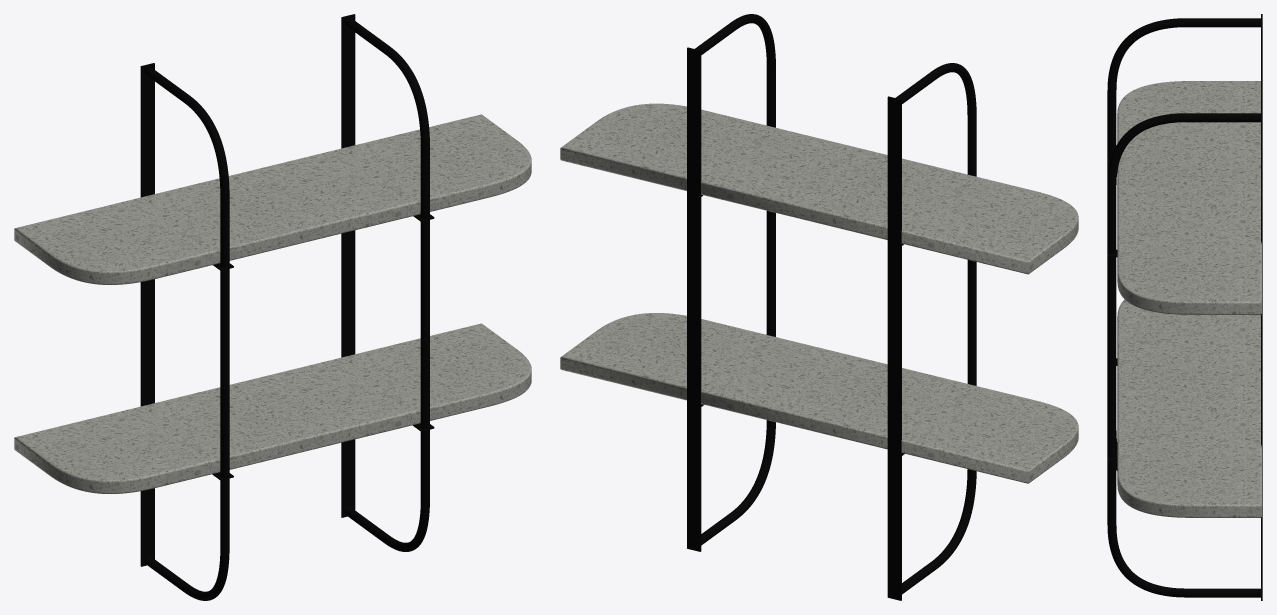
Rendered from Estanteria.glb.
3 views of the same model, side by side, from view 1: azimuth 30°, elevation 25°; view 2: azimuth 150°, elevation 25°; view 3: azimuth 270°, elevation 25° (orthographic). The views are drawn at different scales.
Parts seen in each view (by area): view 1: Terrazo - estanteria, Hierro - estanteria; view 2: Terrazo - estanteria, Hierro - estanteria; view 3: Terrazo - estanteria, Hierro - estanteria.
Boxes of the visible parts, left/top/right/bottom form: Terrazo - estanteria: left=14, top=114, right=531, bottom=493; Hierro - estanteria: left=140, top=14, right=434, bottom=600; Terrazo - estanteria: left=560, top=103, right=1078, bottom=483; Hierro - estanteria: left=687, top=14, right=976, bottom=600; Terrazo - estanteria: left=1117, top=81, right=1261, bottom=517; Hierro - estanteria: left=1107, top=14, right=1262, bottom=600.
Bounding box in the file's own units: 0.7 × 0.7152 × 0.2071.
2 materials, 1 textured.
